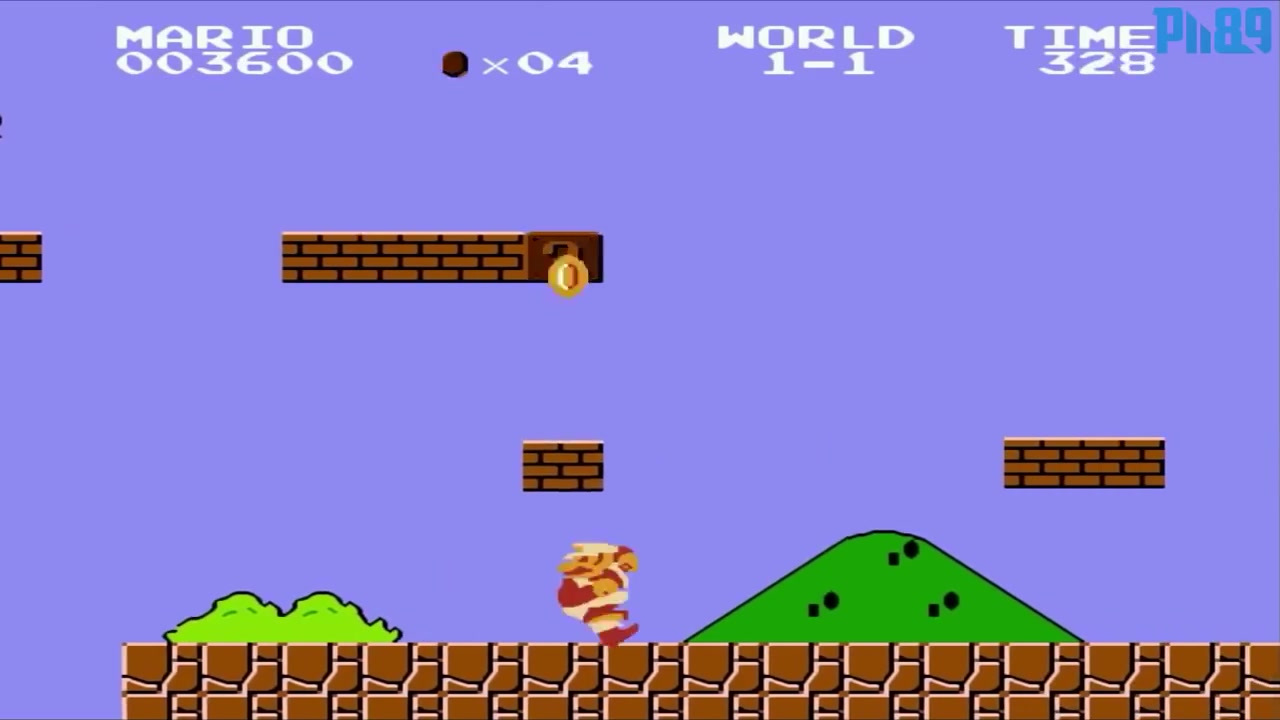mario: (554, 537, 637, 645)
